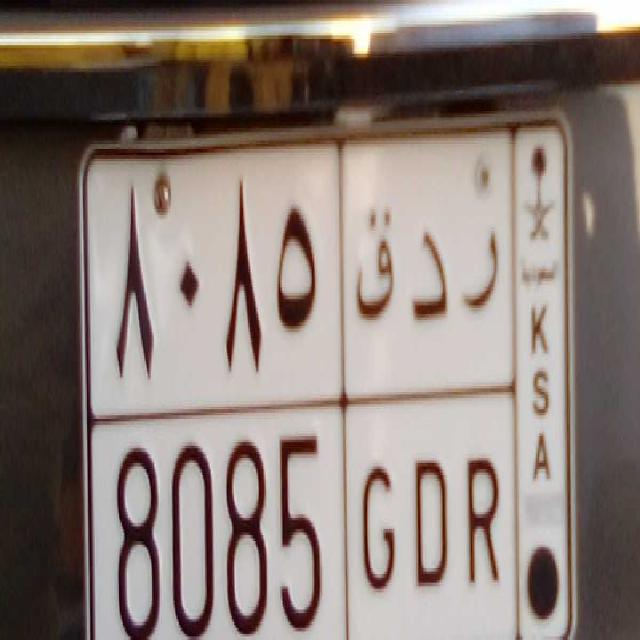license_plate: (115, 403, 513, 640)
